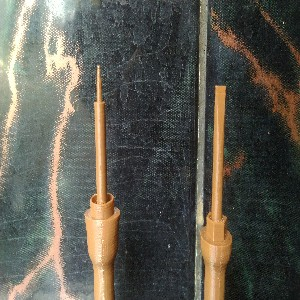obeng: (198, 84, 232, 300)
solder: (84, 64, 121, 300)
